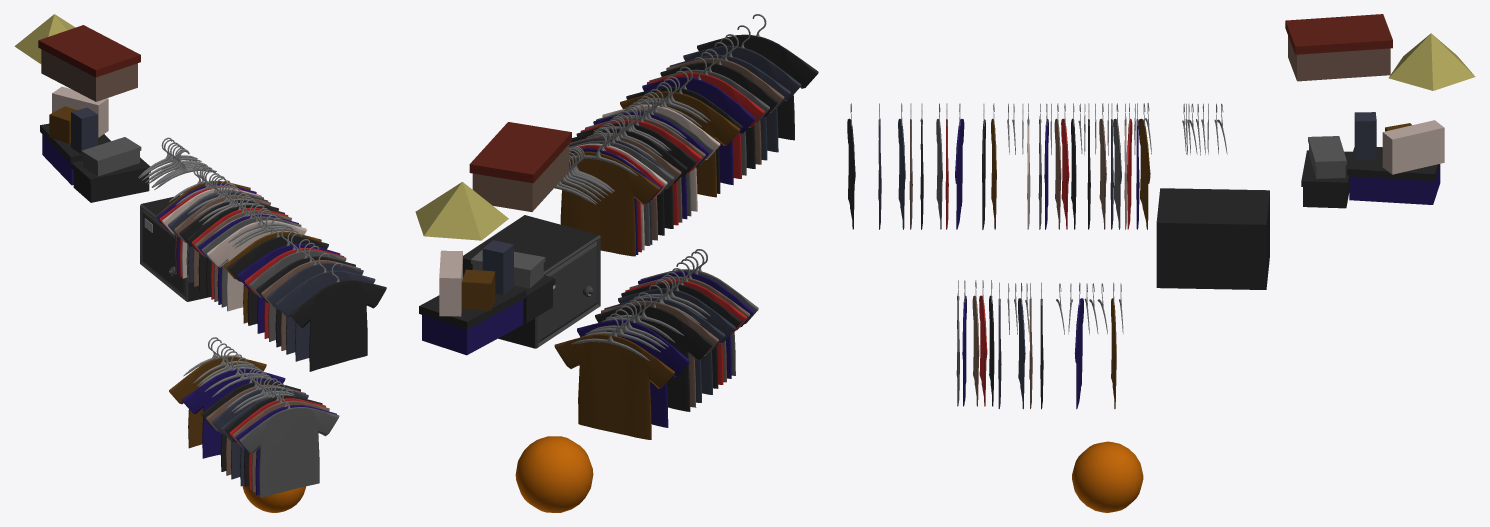
Rendered from Closet clutter.fbx.
The picture shows the model from 3 angles, left to right: view 1: azimuth 30°, elevation 25°; view 2: azimuth 150°, elevation 25°; view 3: azimuth 270°, elevation 25°; orthographic projection. The views are drawn at different scales.
Parts seen in each view (by area): view 1: Shirt (×32), Shoebox1, Safe, Shoebox2, Shoebox3, Shoebox, Box1, Box2, pPyramid1, Bball, Box; view 2: Shirt (×34), Safe, Shoebox1, Bball, Shoebox, pPyramid1, Box1, Box, Box2, Shoebox3, Shoebox2; view 3: Safe, Shoebox1, Bball, Shoebox, pPyramid1, Box1, Shirt (×3), Shoebox2, Shoebox3, Box2.
Part boxes in pixels (left/top/right/bottom): Shirt (×32): left=156, top=183, right=386, bottom=497; Shoebox1: left=38, top=25, right=140, bottom=101; Safe: left=140, top=195, right=211, bottom=301; Shoebox2: left=71, top=157, right=150, bottom=202; Shoebox3: left=81, top=137, right=141, bottom=176; Shoebox: left=40, top=123, right=110, bottom=185; Box1: left=52, top=86, right=108, bottom=137; Box2: left=71, top=107, right=97, bottom=153; pPyramid1: left=14, top=14, right=75, bottom=63; Bball: left=242, top=485, right=305, bottom=512; Box: left=49, top=106, right=76, bottom=143; Shirt (×34): left=554, top=34, right=818, bottom=439; Safe: left=463, top=215, right=600, bottom=348; Shoebox1: left=469, top=122, right=571, bottom=211; Bball: left=515, top=436, right=593, bottom=512; Shoebox: left=419, top=286, right=526, bottom=355; pPyramid1: left=415, top=182, right=508, bottom=240; Box1: left=439, top=250, right=462, bottom=316; Box: left=461, top=269, right=495, bottom=310; Box2: left=482, top=240, right=513, bottom=295; Shoebox3: left=471, top=249, right=545, bottom=288; Shoebox2: left=463, top=275, right=555, bottom=323; Safe: left=1156, top=188, right=1269, bottom=289; Shoebox1: left=1285, top=14, right=1392, bottom=81; Bball: left=1072, top=441, right=1143, bottom=512; Shoebox: left=1347, top=147, right=1440, bottom=204; pPyramid1: left=1388, top=33, right=1475, bottom=90; Box1: left=1382, top=120, right=1444, bottom=174; Shirt (×3): left=955, top=118, right=1150, bottom=409; Shoebox2: left=1301, top=150, right=1352, bottom=208; Shoebox3: left=1308, top=136, right=1346, bottom=178; Box2: left=1354, top=112, right=1376, bottom=160.
Size of the model in its own units: 2.39 by 6.73 by 8.73.
